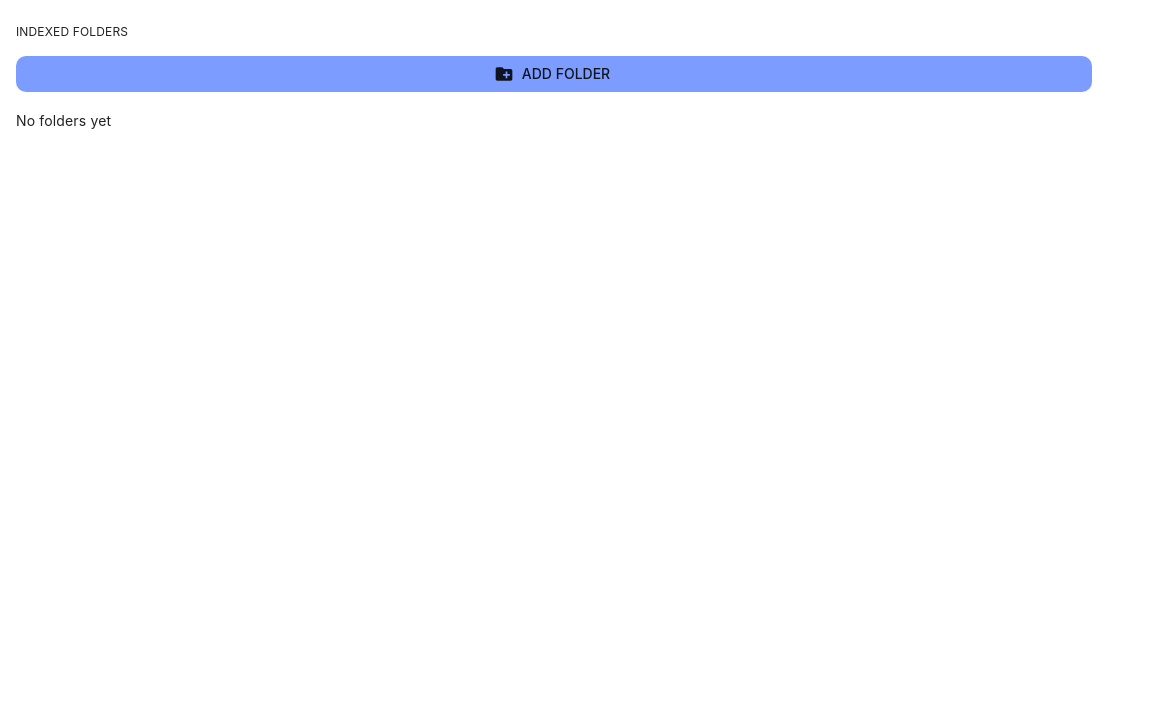
Scenario: Sidebar › closes the path dialog on Cancel
Click the button with test id "add-folder" at point(554, 74), box [16,56,1092,92]
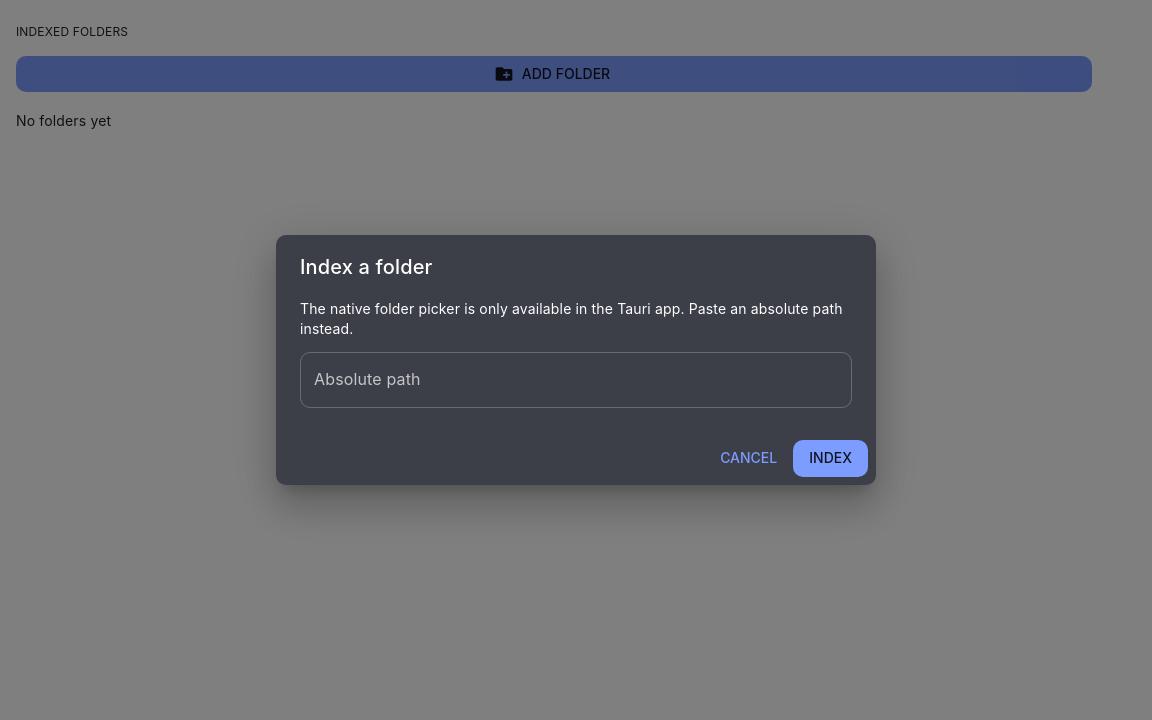
Type "/home/dev/web" into the field with test id "manual-path" at point(576, 380), box [300,352,852,408]
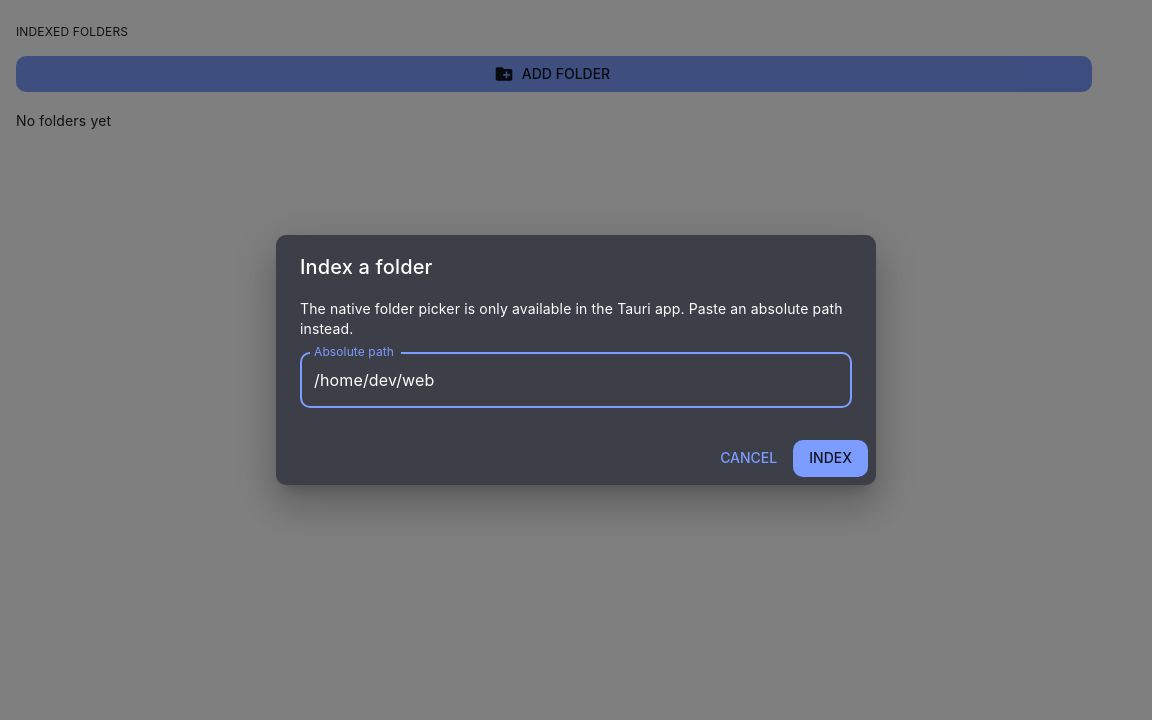
Click the button "Cancel" at point(749, 458), box [712,440,785,477]
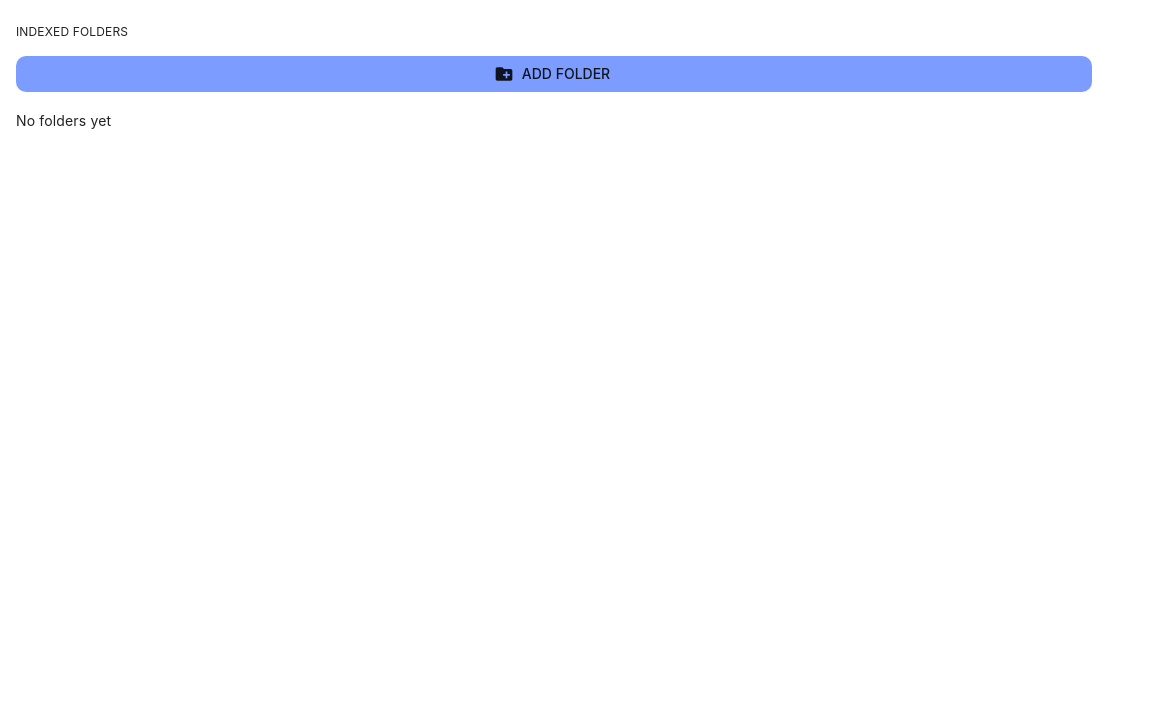
Check: the field with test id "manual-path" is gone
